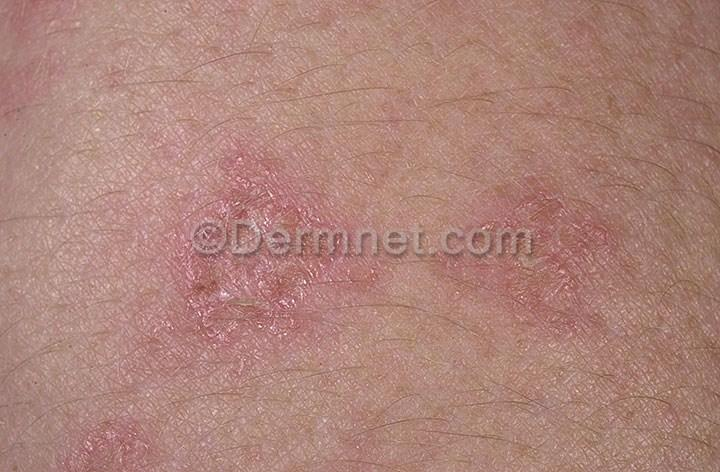Eczema: (100, 128, 399, 397), (421, 115, 651, 379), (73, 382, 209, 462)
